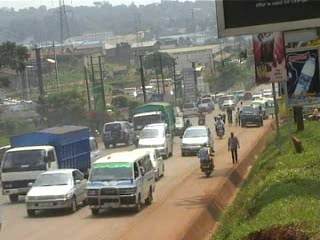Car: (24, 168, 92, 218), (134, 123, 176, 160), (129, 146, 167, 181), (98, 119, 139, 150), (180, 124, 216, 159), (171, 115, 186, 137), (180, 101, 200, 116), (220, 100, 238, 112), (196, 103, 211, 115), (218, 95, 228, 110)
Motorcycle: (195, 147, 217, 177), (214, 119, 227, 139), (179, 122, 191, 138), (195, 113, 206, 127)
